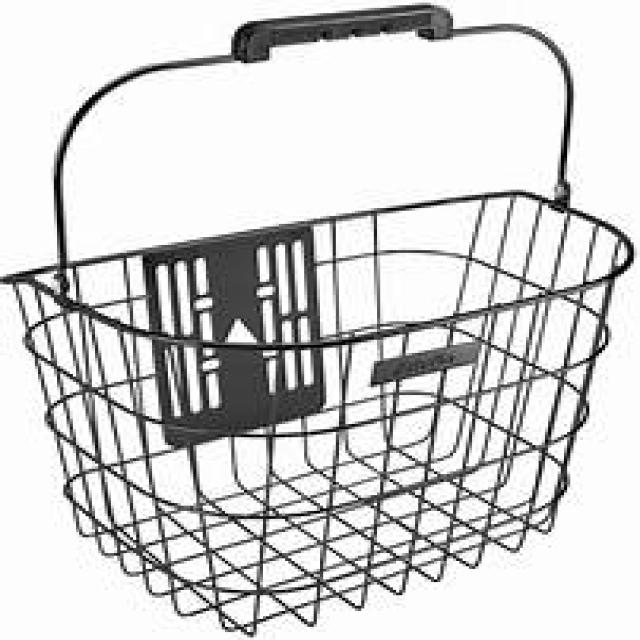basket: (1, 2, 634, 640)
